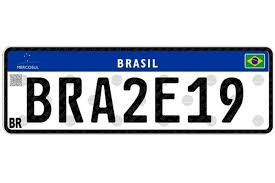car_plate: (2, 45, 273, 133)
